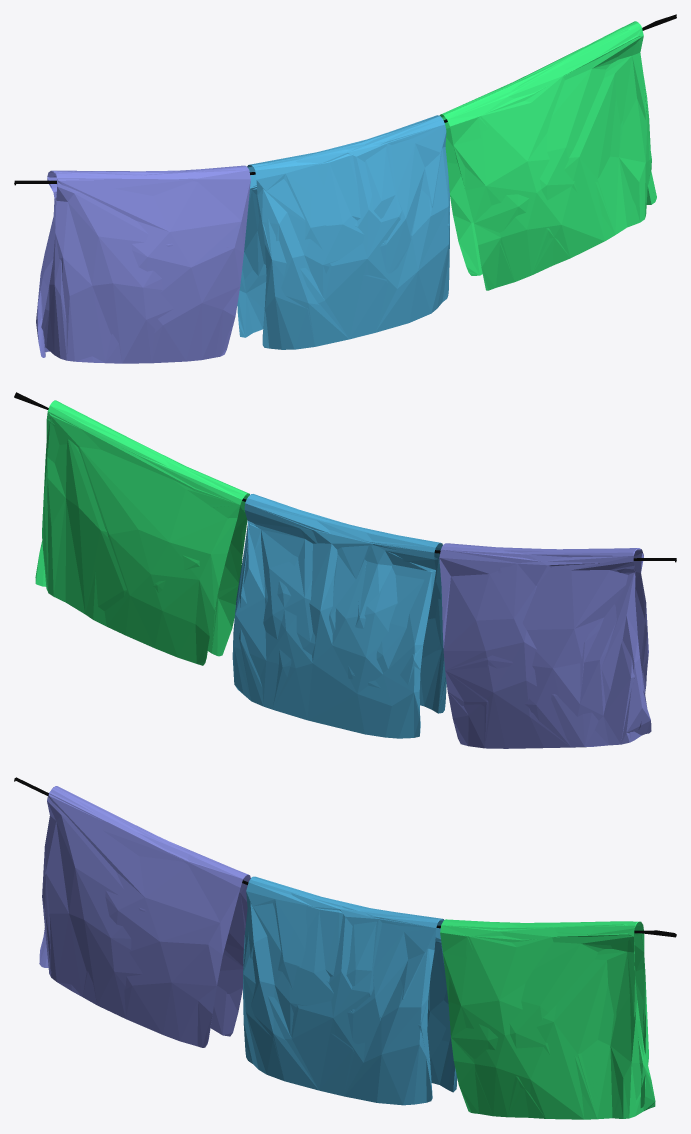
File: Cloth Line.fbx
The picture shows the model from 3 angles, top to bottom: view 1: azimuth 30°, elevation 25°; view 2: azimuth 150°, elevation 25°; view 3: azimuth 330°, elevation 25°; orthographic projection.
Visible parts, largest first — view 1: Cube.001; view 2: Cube.001; view 3: Cube.001.
Boxes of the visible parts, <box> form: Cube.001: <box>14,14,676,363</box>; Cube.001: <box>14,392,676,748</box>; Cube.001: <box>14,777,676,1119</box>.
Bounding box in the file's own units: 681 × 233 × 73.37.
